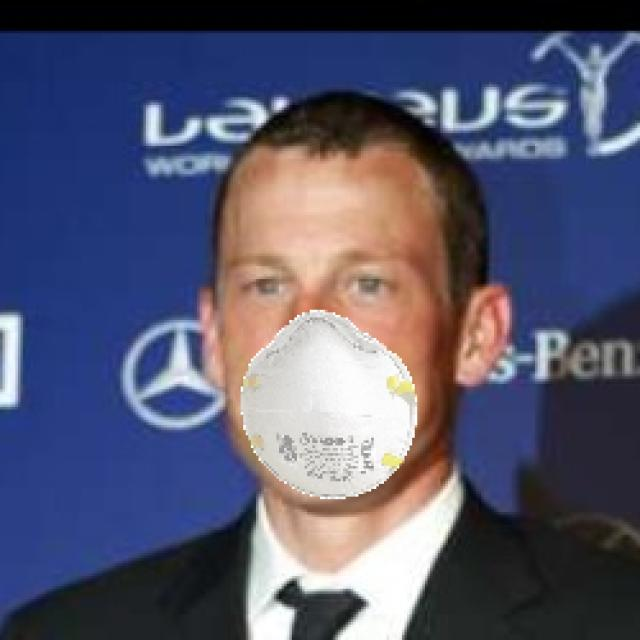mask: (222, 297, 420, 516)
